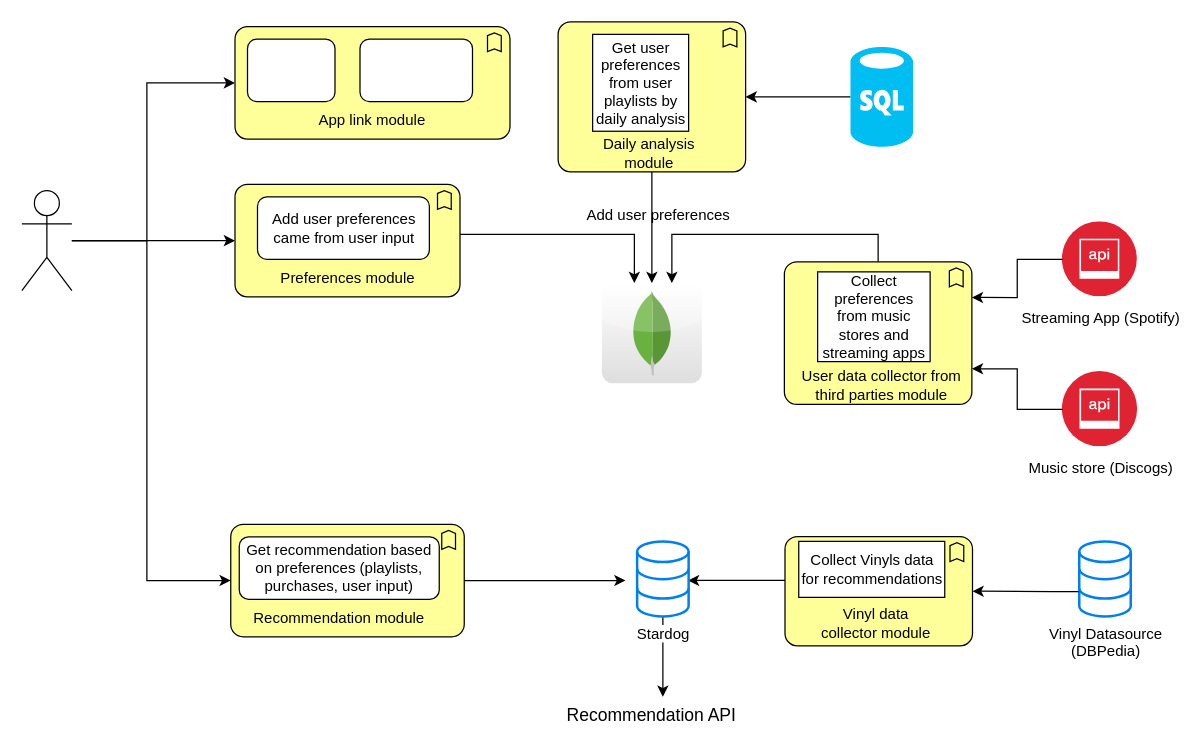
This 1201x756 diagram has some shape labels left out. The shapes that lost their labels are listed below. From the top down, each one's box as (x1, y1, x2, y2) in pixels, then its label:
(246, 38, 335, 102): Link Music Store to app (Discogs)
(359, 38, 472, 102): Link Streaming App to app (Spotify)
(850, 46, 912, 146): Playlist Database
(21, 189, 72, 291): Actor
(601, 282, 702, 383): Preferences Database
